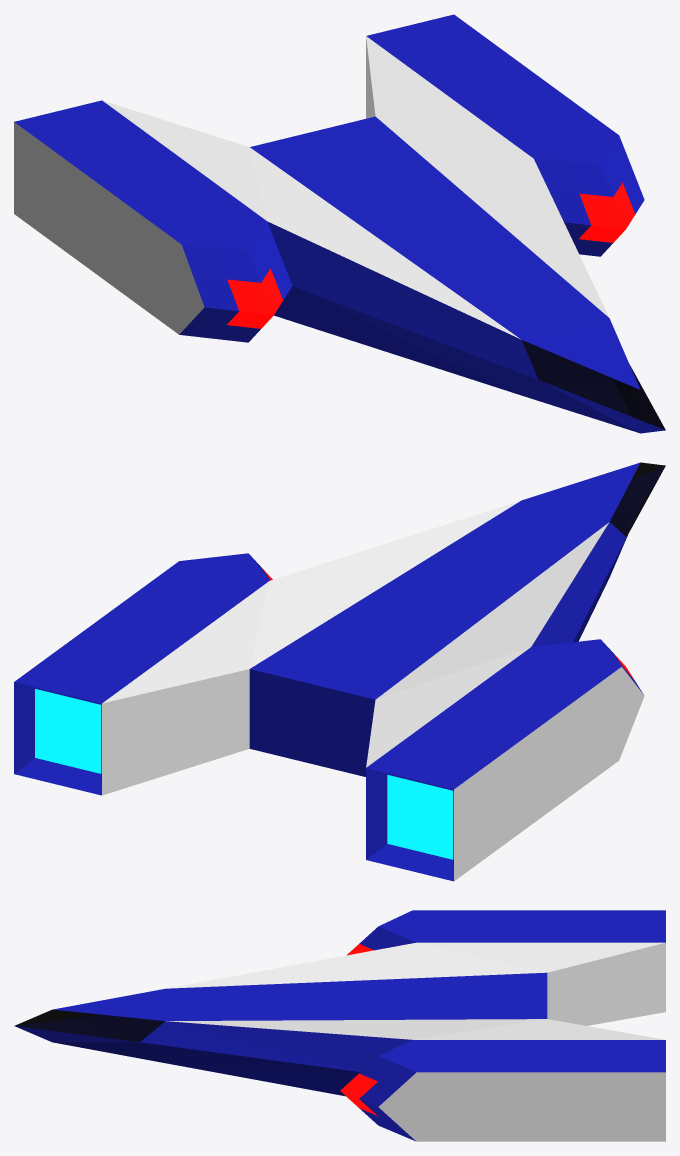
The model's file is player ship type 1.dae.
3 views of the same model, one above another, from view 1: azimuth 30°, elevation 25°; view 2: azimuth 150°, elevation 25°; view 3: azimuth 270°, elevation 25° (orthographic). The views are drawn at different scales.
Visible parts, largest first — view 1: Main_Body_Color, Secondary_Body_Color, Weapon_Banks, Ship_Cockpit; view 2: Main_Body_Color, Secondary_Body_Color, Engines, Ship_Cockpit; view 3: Main_Body_Color, Secondary_Body_Color, Ship_Cockpit, Weapon_Banks.
Boxes of the visible parts, box(x1,y1,x2,y2) form: Main_Body_Color: box(14, 14, 665, 433); Secondary_Body_Color: box(14, 36, 609, 338); Weapon_Banks: box(227, 182, 635, 328); Ship_Cockpit: box(522, 340, 665, 430); Main_Body_Color: box(14, 462, 652, 881); Secondary_Body_Color: box(102, 500, 644, 881); Engines: box(35, 689, 453, 859); Ship_Cockpit: box(610, 462, 665, 536); Main_Body_Color: box(14, 910, 665, 1141); Secondary_Body_Color: box(166, 942, 665, 1141); Ship_Cockpit: box(14, 1009, 164, 1041); Weapon_Banks: box(340, 944, 377, 1115).
Bounding box in the file's own units: 1.25 × 0.25 × 2.12.
